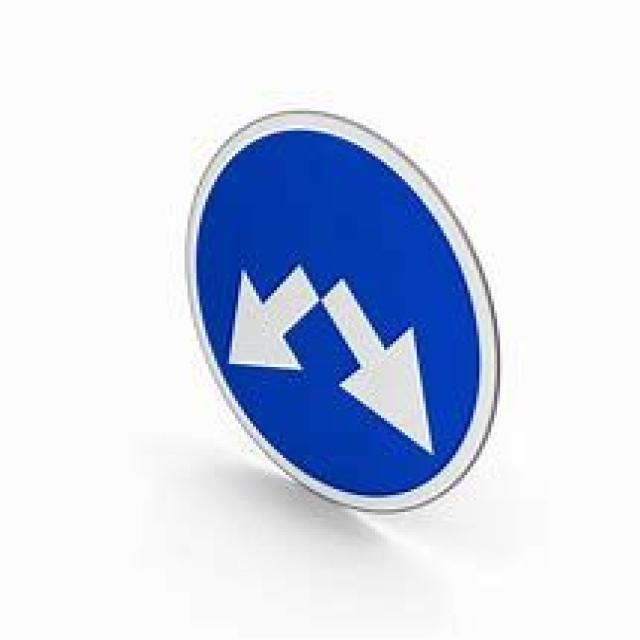PASS_EITHER_SIDE: (193, 112, 496, 520)
